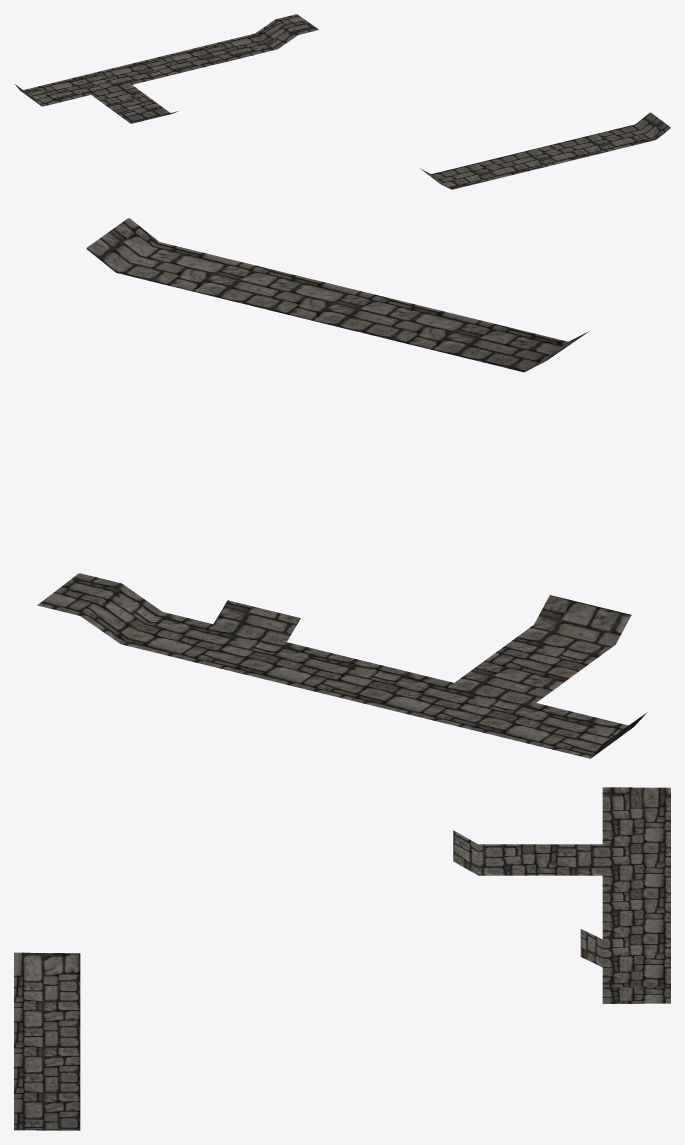
Rendered from DeepWater.FBX.
The picture shows the model from 3 angles, top to bottom: view 1: azimuth 30°, elevation 25°; view 2: azimuth 150°, elevation 25°; view 3: azimuth 270°, elevation 25°; orthographic projection. The views are drawn at different scales.
Parts seen in each view (by area): view 1: DeepWater; view 2: DeepWater; view 3: DeepWater.
Part boxes in pixels (<box>): DeepWater: <box>15,14,670,189</box>; DeepWater: <box>37,218,647,758</box>; DeepWater: <box>14,787,670,1130</box>.
Size of the model in its own units: 4382 by 86.4 by 3559.
